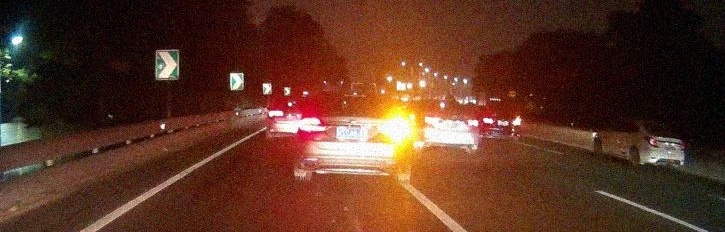L_light: (298, 116, 326, 132), (425, 116, 441, 124)
R_light: (377, 118, 409, 135), (467, 117, 479, 128)
T_light: (348, 96, 366, 99), (445, 103, 456, 106)
night-no: (422, 102, 480, 151)
night-right: (294, 94, 412, 184)
